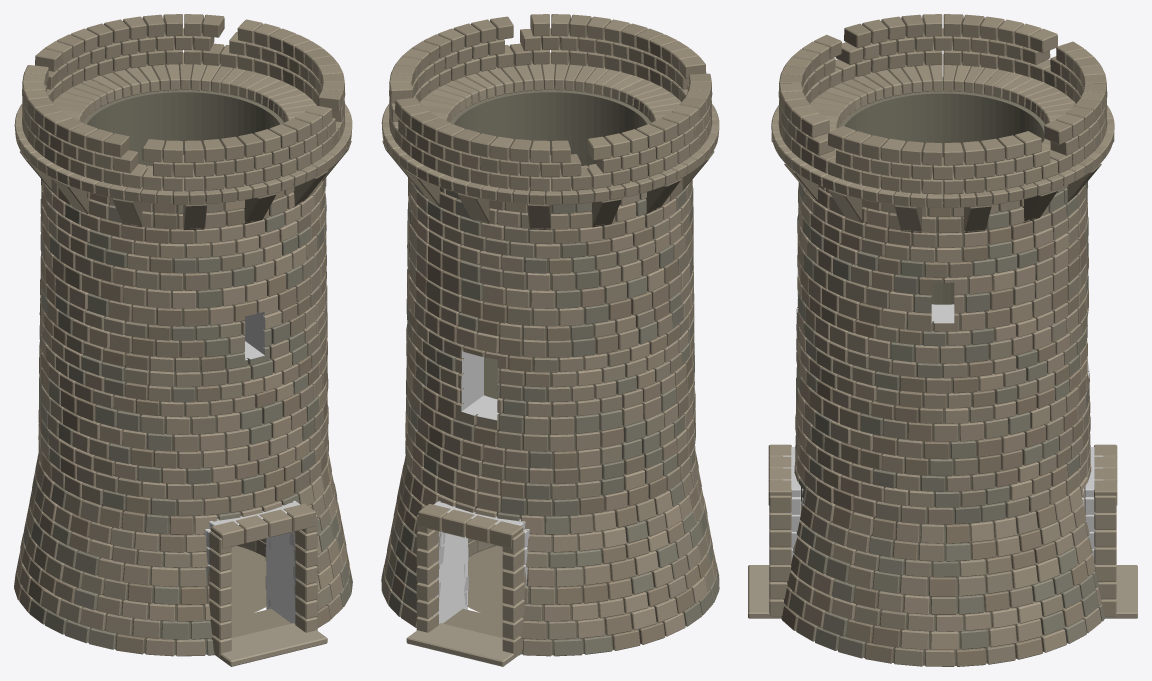
File: Tour_Genoise_LOD0.fbx
3 renders of one model, left to right at view 1: azimuth 30°, elevation 25°; view 2: azimuth 150°, elevation 25°; view 3: azimuth 270°, elevation 25°, orthographic.
Parts seen in each view (by area): view 1: Maconnerie_Irreguliere, Couronnement_14_Consoles, Joints_Fut_Interieur, Encadrements_Seuils, Sol_Voute_Passage, Pierres_Epaisseur_Passage; view 2: Maconnerie_Irreguliere, Couronnement_14_Consoles, Joints_Fut_Interieur, Encadrements_Seuils, Sol_Voute_Passage, Pierres_Epaisseur_Passage; view 3: Maconnerie_Irreguliere, Couronnement_14_Consoles, Joints_Fut_Interieur, Encadrements_Seuils, Pierres_Epaisseur_Passage.
Boxes of the visible parts, <box> form: Maconnerie_Irreguliere: <box>14,177,352,656</box>; Couronnement_14_Consoles: <box>14,14,352,230</box>; Joints_Fut_Interieur: <box>65,86,299,655</box>; Encadrements_Seuils: <box>209,503,327,666</box>; Sol_Voute_Passage: <box>230,545,290,638</box>; Pierres_Epaisseur_Passage: <box>204,500,300,586</box>; Maconnerie_Irreguliere: <box>381,177,719,656</box>; Couronnement_14_Consoles: <box>381,14,719,230</box>; Joints_Fut_Interieur: <box>437,85,682,655</box>; Encadrements_Seuils: <box>406,503,524,666</box>; Sol_Voute_Passage: <box>443,546,503,638</box>; Pierres_Epaisseur_Passage: <box>433,501,530,586</box>; Maconnerie_Irreguliere: <box>781,181,1105,666</box>; Couronnement_14_Consoles: <box>771,14,1114,232</box>; Joints_Fut_Interieur: <box>818,77,1066,665</box>; Encadrements_Seuils: <box>748,444,1137,618</box>; Pierres_Epaisseur_Passage: <box>782,447,1103,582</box>.
Size of the model in its own units: 736 by 1210 by 835.
